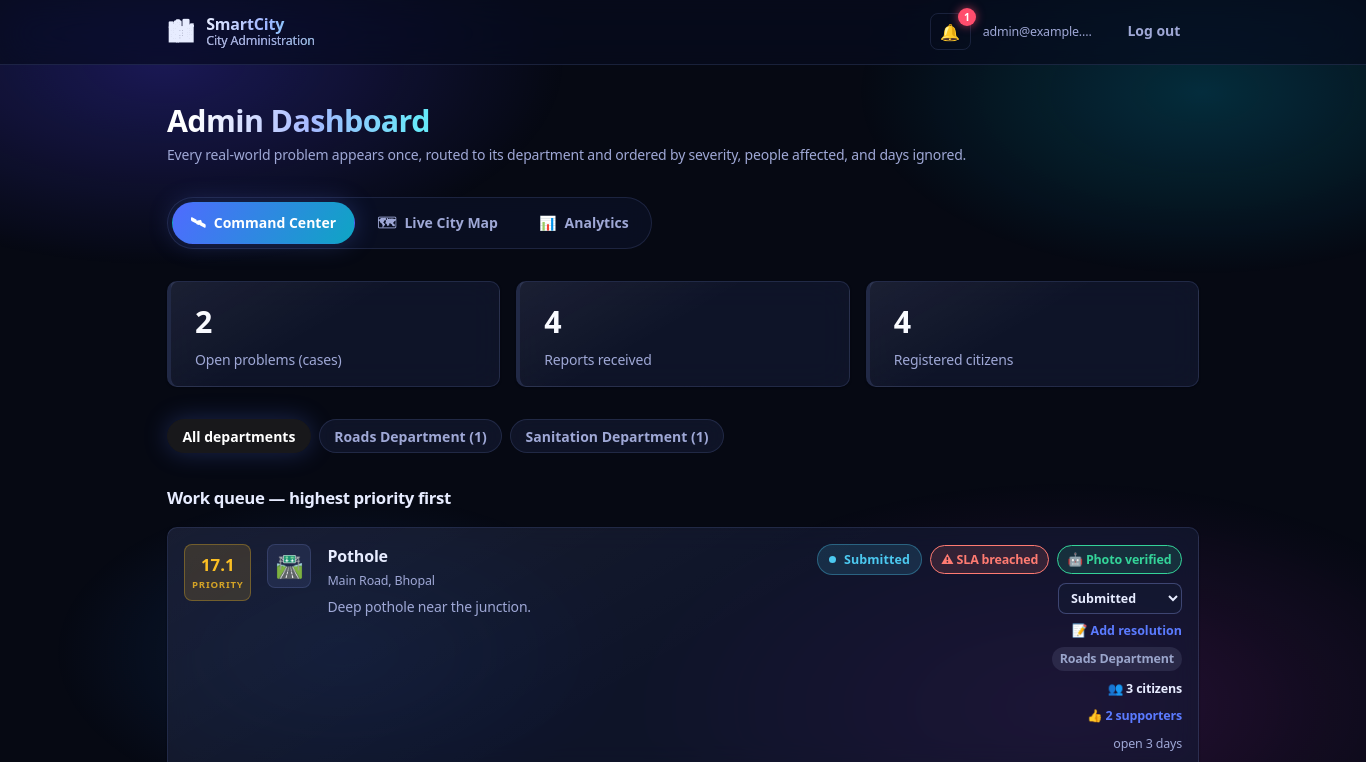
Test: AdminDashboard › shows who each email went to and its delivery state
Click the button named "1 unread notifications". click: (950, 32)
box: [930,13,971,50]
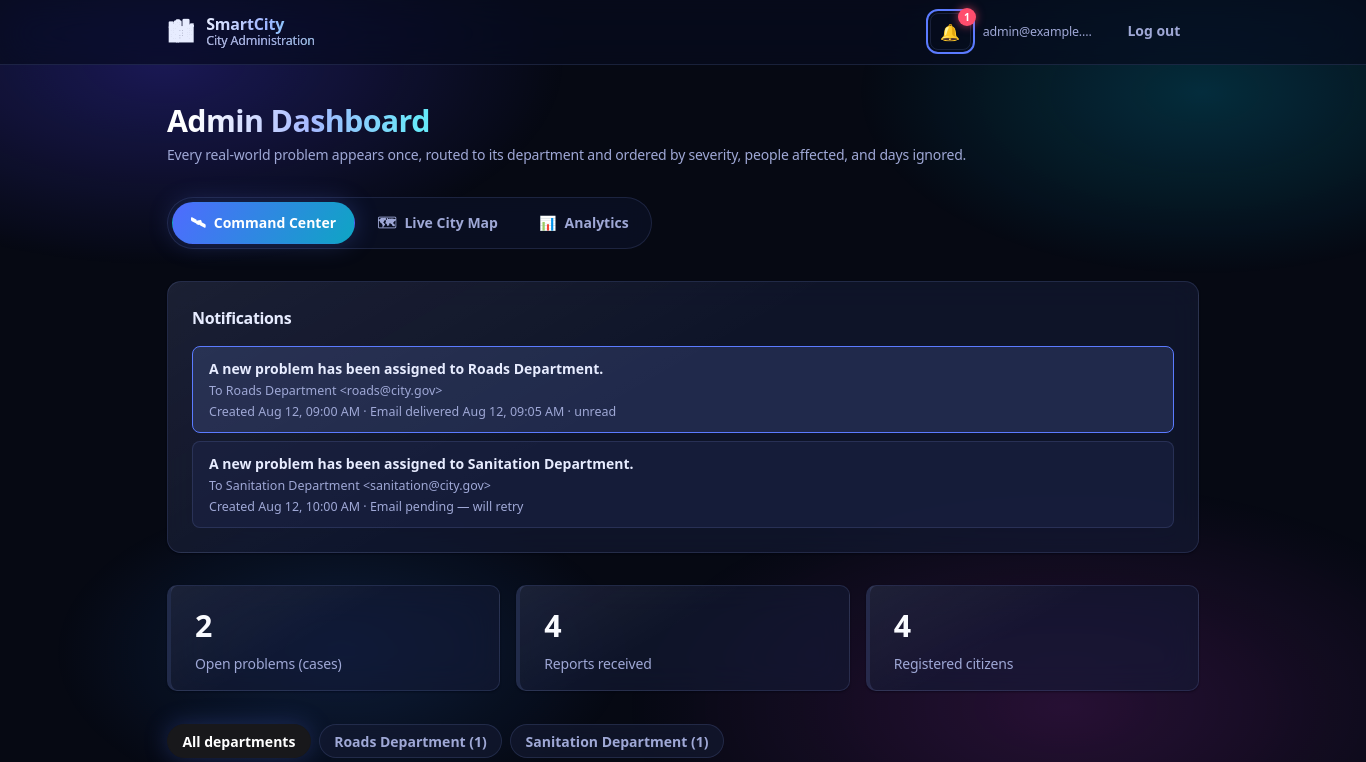
expect the text "To Roads Department <roads@city.gov>" is shown: met, box [209,382,442,400]
expect the text "Email delivered" is shown: met, box [360,404,564,420]
expect the text "To Sanitation Department <sanitation@city.gov>" is shown: met, box [209,478,491,494]
